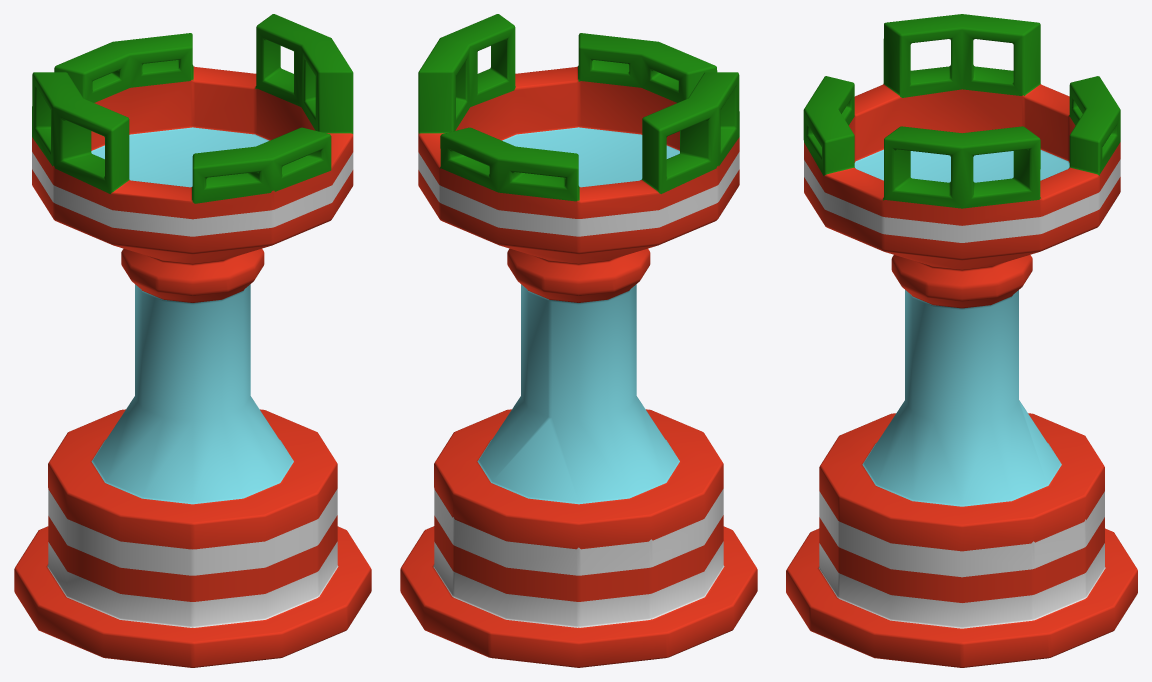
The model's file is PatrolTower.fbx.
3 renders of one model, left to right at view 1: azimuth 30°, elevation 25°; view 2: azimuth 150°, elevation 25°; view 3: azimuth 270°, elevation 25°, orthographic.
Parts seen in each view (by area): view 1: PatrolTower; view 2: PatrolTower; view 3: PatrolTower.
Part boxes in pixels (bbox=[...]): PatrolTower: bbox=[14, 14, 371, 667]; PatrolTower: bbox=[400, 14, 757, 667]; PatrolTower: bbox=[786, 14, 1137, 667].
Size of the model in its own units: 183 by 295 by 183.
